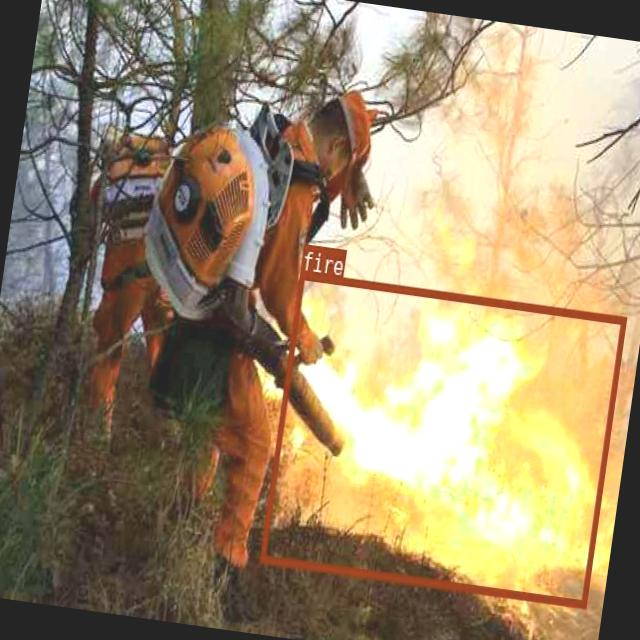fire: (258, 270, 626, 608)
